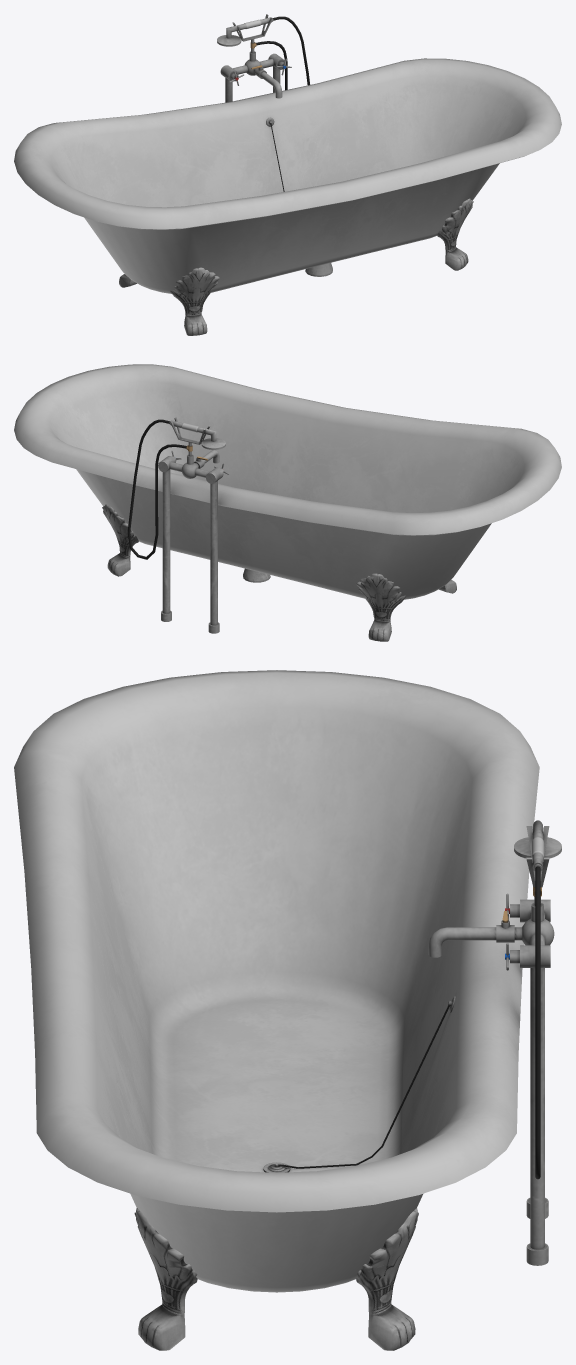
The picture shows the model from 3 angles, top to bottom: view 1: azimuth 30°, elevation 25°; view 2: azimuth 150°, elevation 25°; view 3: azimuth 270°, elevation 25°; orthographic projection. The views are drawn at different scales.
Visible parts, largest first — view 1: SM_Bathtub; view 2: SM_Bathtub; view 3: SM_Bathtub.
Part boxes in pixels (x1,y1,x2,y2): SM_Bathtub: (14,14,561,335); SM_Bathtub: (14,364,561,641); SM_Bathtub: (14,670,561,1350).
Size of the model in its own units: 186 by 71.35 by 89.3.
Materials: 1 (1 with a texture image).
